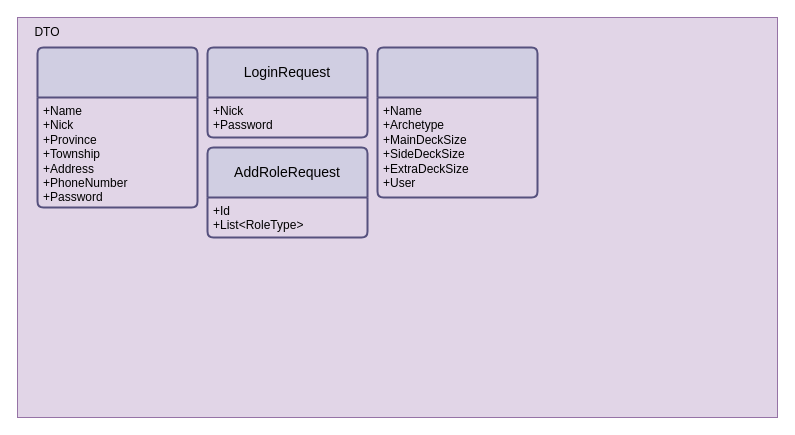
Image size: 795x435. Some labels were removed from this diagram. Here are the shapes that lost their labels. From the top down, the box of each, then its label:
(36, 46, 198, 208): RegisterUserRequest
(376, 46, 538, 198): RegisterDeckRequest
